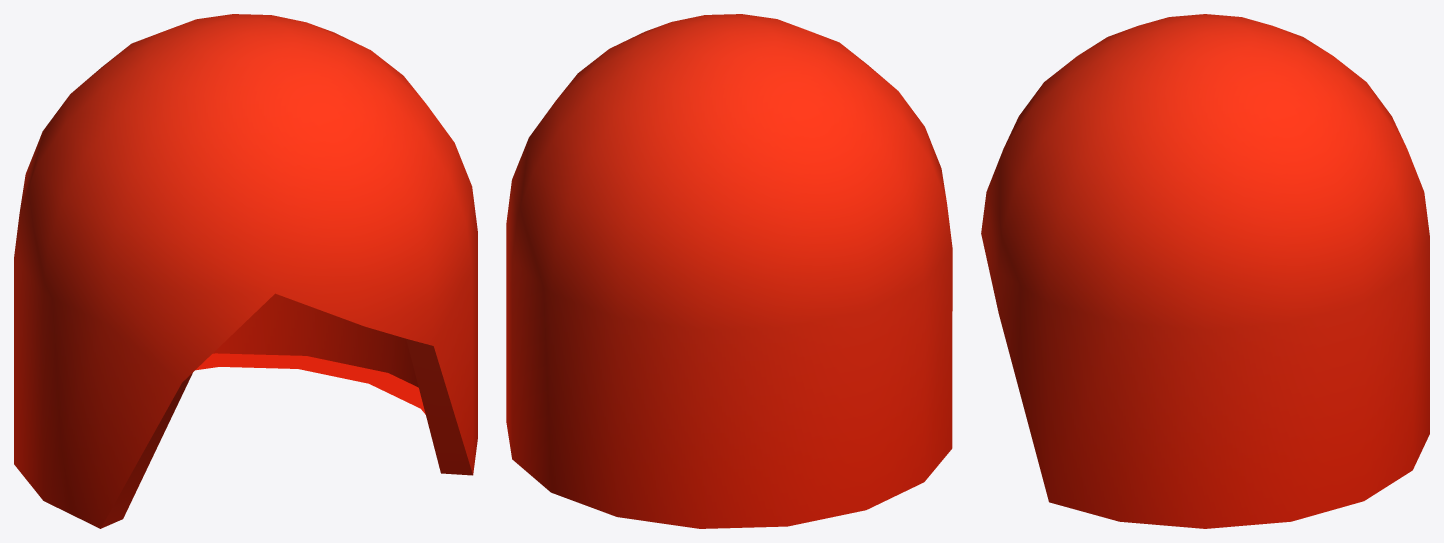
File: Hair_01_C01.fbx
3 renders of one model, left to right at view 1: azimuth 30°, elevation 25°; view 2: azimuth 150°, elevation 25°; view 3: azimuth 270°, elevation 25°, orthographic. The views are drawn at different scales.
Parts seen in each view (by area): view 1: Hair_01_C01; view 2: Hair_01_C01; view 3: Hair_01_C01.
Part boxes in pixels (x1=…): Hair_01_C01: x1=14, y1=14, x2=477, y2=528; Hair_01_C01: x1=506, y1=14, x2=952, y2=528; Hair_01_C01: x1=981, y1=14, x2=1429, y2=528.
Bounding box in the file's own units: 118 × 116 × 117.
